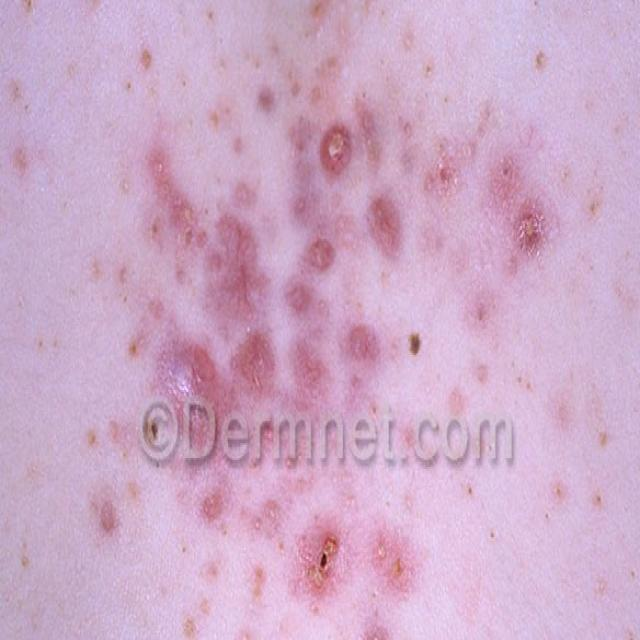Acne: (7, 73, 610, 640)
